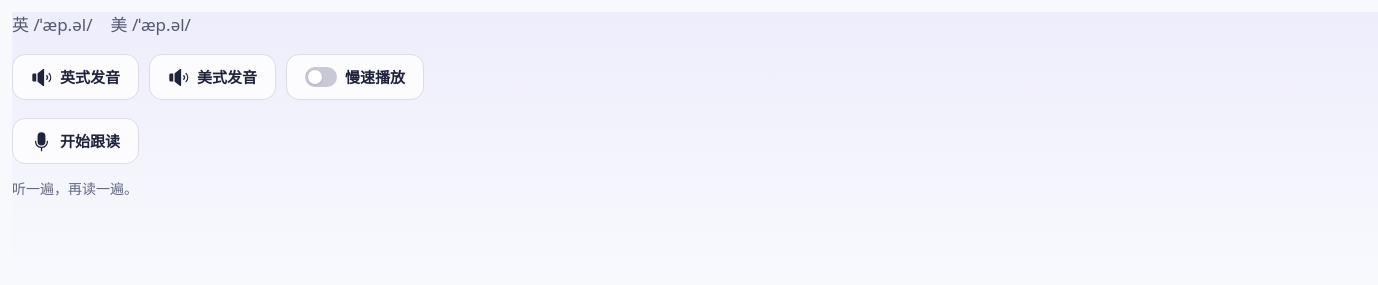
PronunciationControls › pauses a recording replay when leaving the page
This screenshot has width=1378, height=285.
Click the button "开始跟读" at (76, 141), box 12,118 -> 139,164
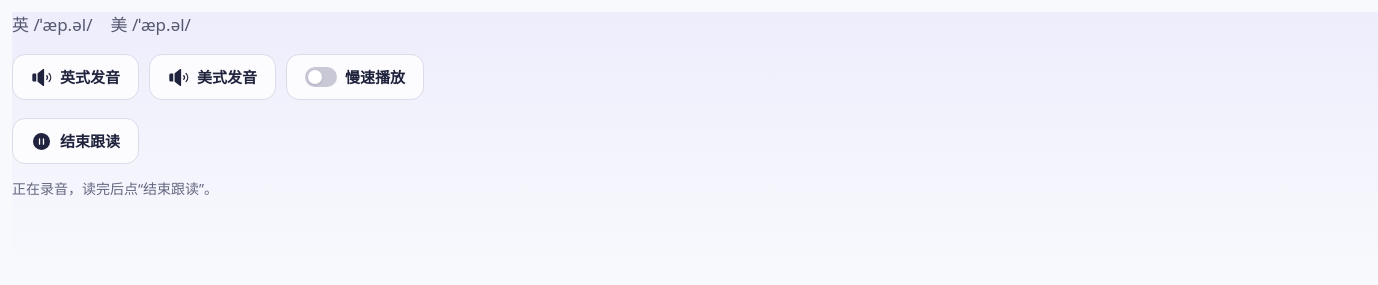
Click the button "结束跟读" at (76, 141), box 12,118 -> 139,164
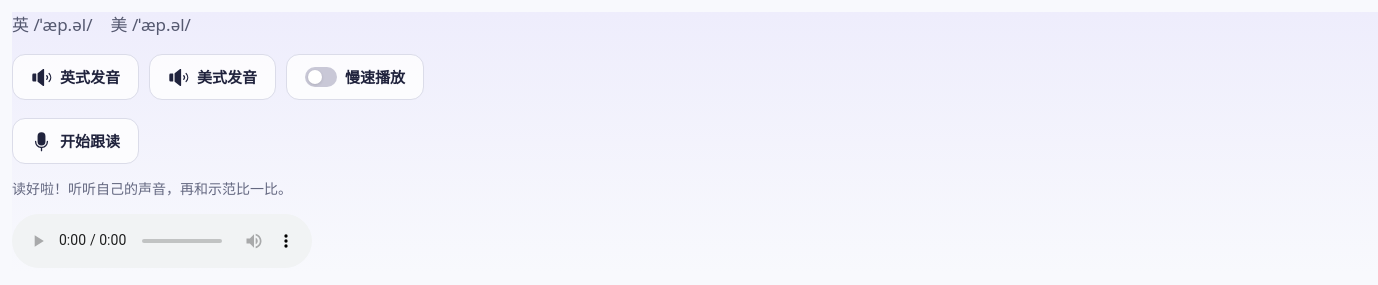
Now the text named "本次跟读回放" is shown, box 12,214 -> 312,268
